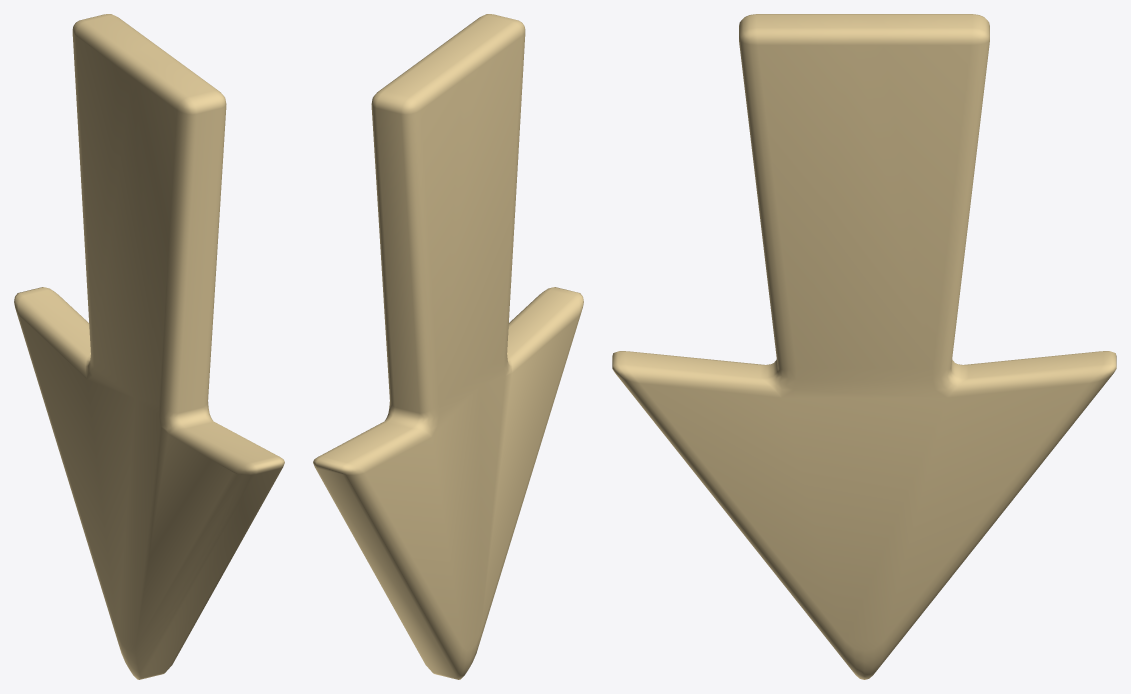
3 views of the same model, side by side, from view 1: azimuth 30°, elevation 25°; view 2: azimuth 150°, elevation 25°; view 3: azimuth 270°, elevation 25° (orthographic). The views are drawn at different scales.
Visible parts, largest first — view 1: Arrow; view 2: Arrow; view 3: Arrow.
Boxes of the visible parts, box(x1,y1,x2,y2) form: Arrow: box(14, 14, 284, 679); Arrow: box(313, 14, 583, 679); Arrow: box(612, 14, 1116, 679).
Size of the model in its own units: 0.2343 by 3.01 by 2.11.
